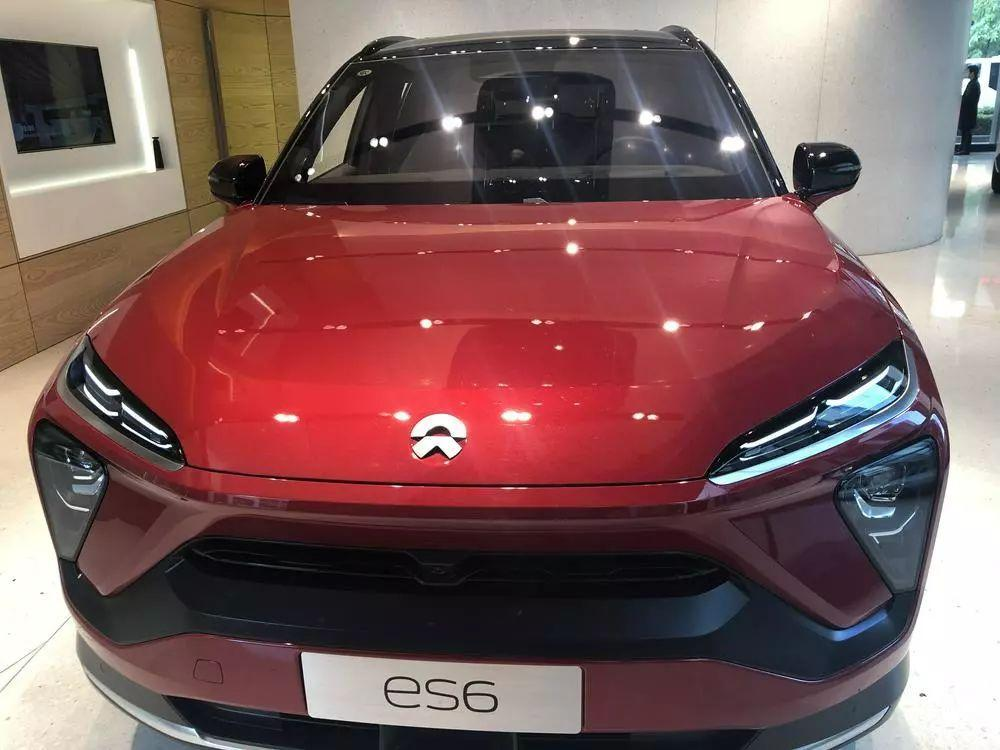NIO: (409, 413, 468, 461)
